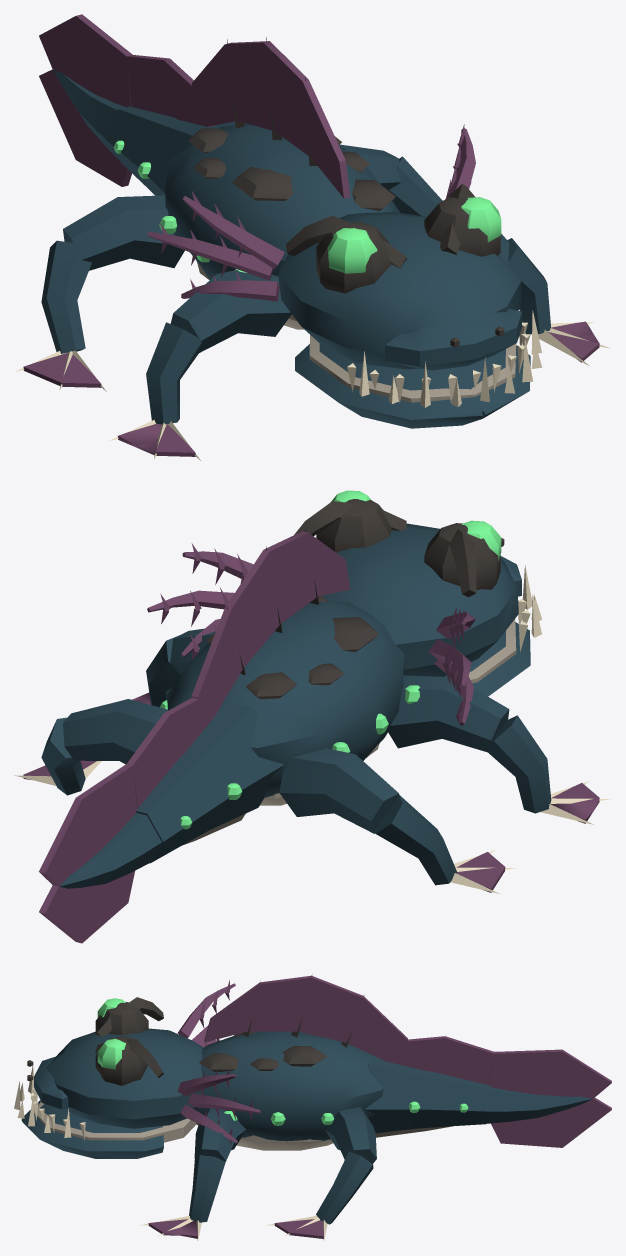
File: Monster_Murkling.fbx
The picture shows the model from 3 angles, top to bottom: view 1: azimuth 30°, elevation 25°; view 2: azimuth 150°, elevation 25°; view 3: azimuth 270°, elevation 25°; orthographic projection. The views are drawn at different scales.
Visible parts, largest first — view 1: Head, Body, Jaw, RightLeg, RightArm, TailTip, Tail, LeftArm, HeadGlow, LeftLeg; view 2: Body, Head, Tail, TailTip, RightLeg, RightArm, LeftLeg, Jaw, LeftArm, HeadGlow, BodyGlow; view 3: Body, Head, Tail, TailTip, Jaw, LeftLeg, LeftArm, HeadGlow.
Part boxes in pixels (<box>): Head: <box>147,124,530,402</box>; Body: <box>165,37,400,329</box>; Jaw: <box>295,310,542,428</box>; RightLeg: <box>15,195,184,391</box>; RightArm: <box>109,270,291,460</box>; TailTip: <box>39,14,132,186</box>; Tail: <box>105,55,248,195</box>; LeftArm: <box>499,234,610,365</box>; HeadGlow: <box>327,197,501,273</box>; LeftLeg: <box>339,144,442,216</box>; Body: <box>167,529,404,805</box>; Head: <box>147,499,530,730</box>; Tail: <box>127,695,283,863</box>; TailTip: <box>39,764,161,943</box>; RightLeg: <box>279,748,516,893</box>; RightArm: <box>387,675,610,824</box>; LeftLeg: <box>14,699,167,795</box>; Jaw: <box>444,565,542,696</box>; LeftArm: <box>132,628,215,707</box>; HeadGlow: <box>330,490,501,560</box>; BodyGlow: <box>160,685,419,752</box>; Body: <box>196,975,407,1150</box>; Head: <box>27,980,261,1145</box>; Tail: <box>365,1036,494,1137</box>; TailTip: <box>486,1049,611,1147</box>; Jaw: <box>14,1065,195,1158</box>; LeftLeg: <box>265,1107,376,1240</box>; LeftArm: <box>139,1108,246,1240</box>; HeadGlow: <box>97,998,125,1069</box>.
Size of the model in its own units: 3.04 by 1.7 by 4.84.
